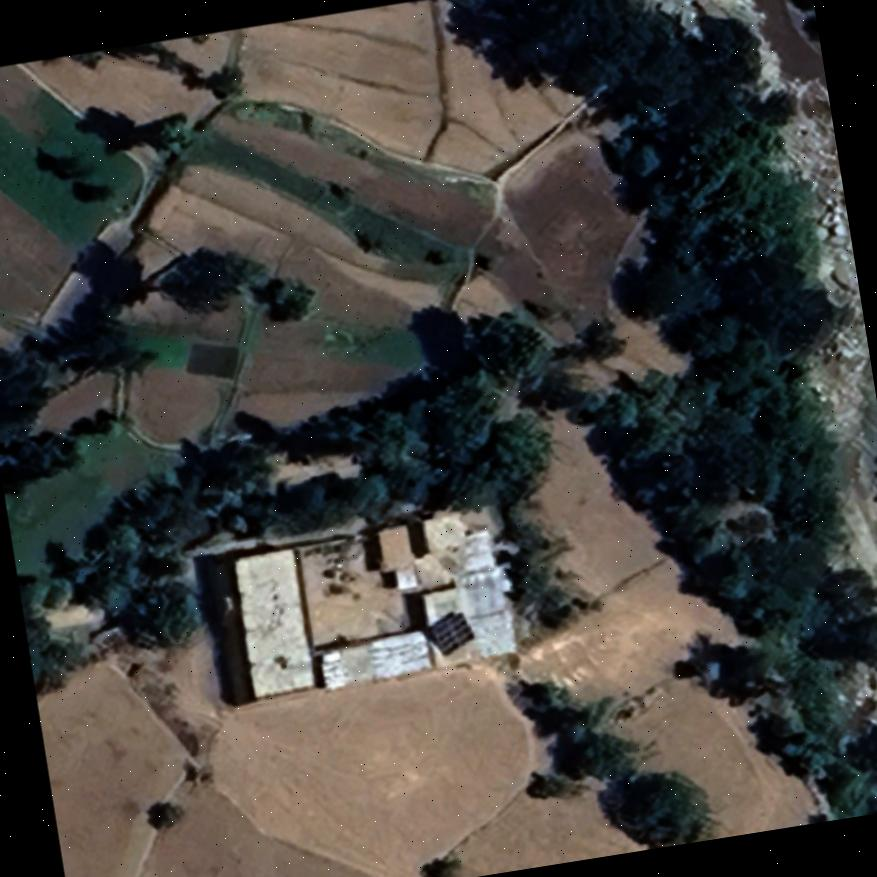Solarpanel: (425, 605, 477, 656)
